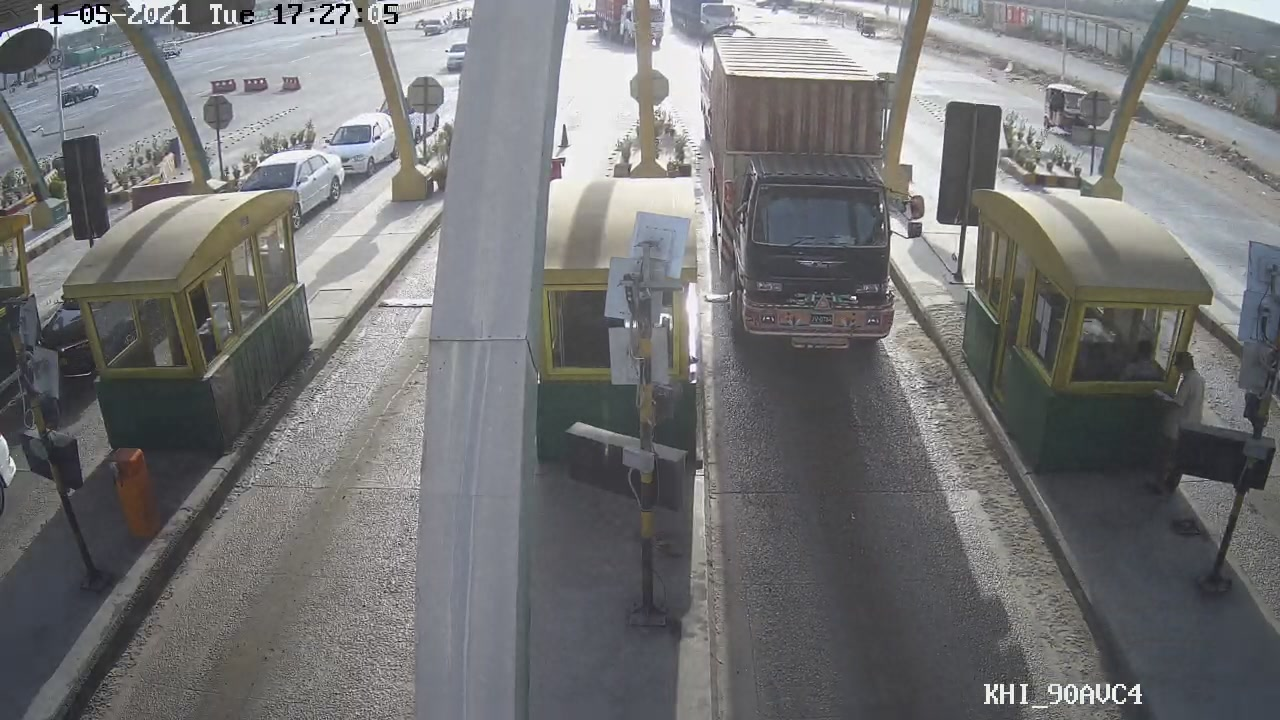F6: (707, 37, 927, 351)
